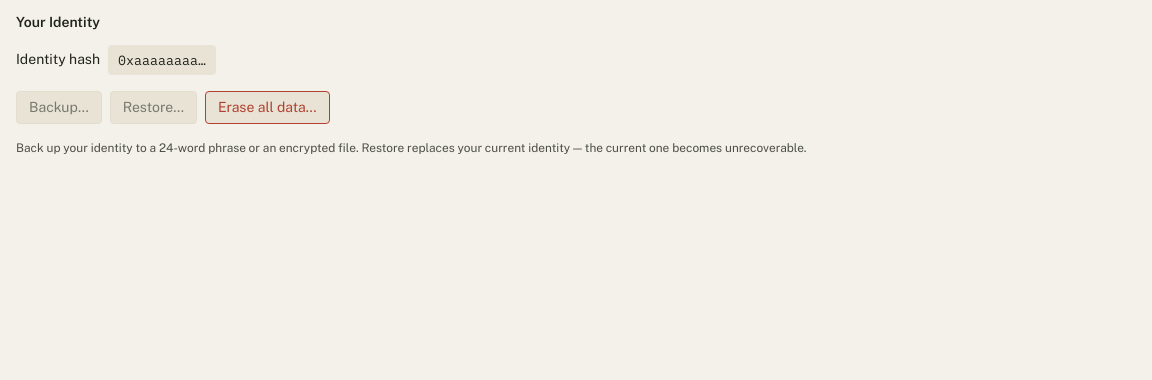
Test: Backup wizard — step 2a (mnemonic reveal) › fetches words and shows them blurred initially
Expected: the button "0xaaaaaaaa…" is shown, left=108, top=45, right=216, bottom=75
What coordinates should you click on to do the following:
click the button "Backup…"
I would click on:
 (59, 107)
Its box is left=16, top=91, right=102, bottom=124.
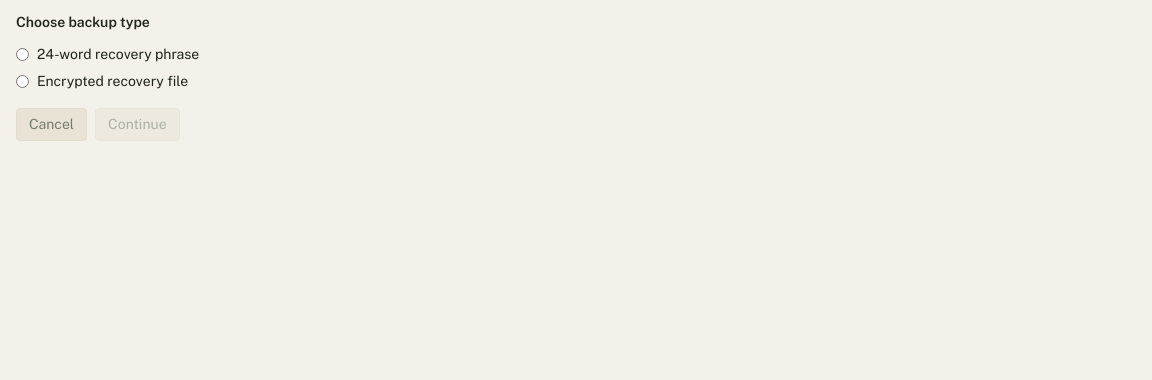
What coordinates should you click on to do the following:
click the radio button labelled "24-word recovery phrase"
I would click on:
 (22, 54)
Its box is left=16, top=48, right=29, bottom=61.
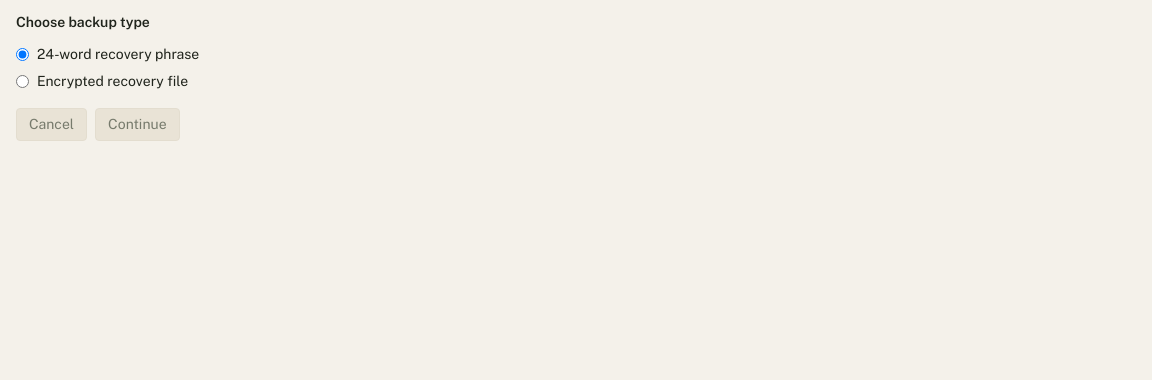
What coordinates should you click on to do the following:
click the button "Continue"
I would click on:
 (137, 125)
Its box is left=95, top=108, right=180, bottom=141.
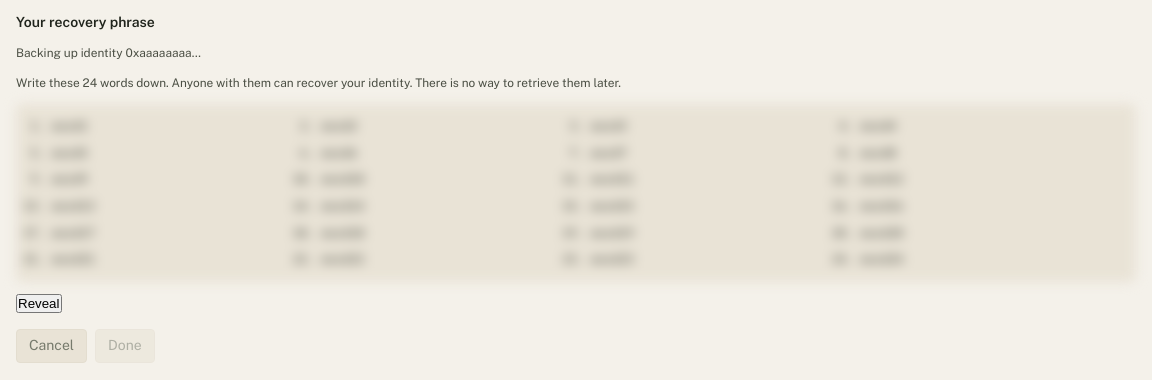
Now the list item "word1" is shown, box left=52, top=118, right=88, bottom=133
Now the button "Reveal" is shown, box left=16, top=294, right=62, bottom=313
